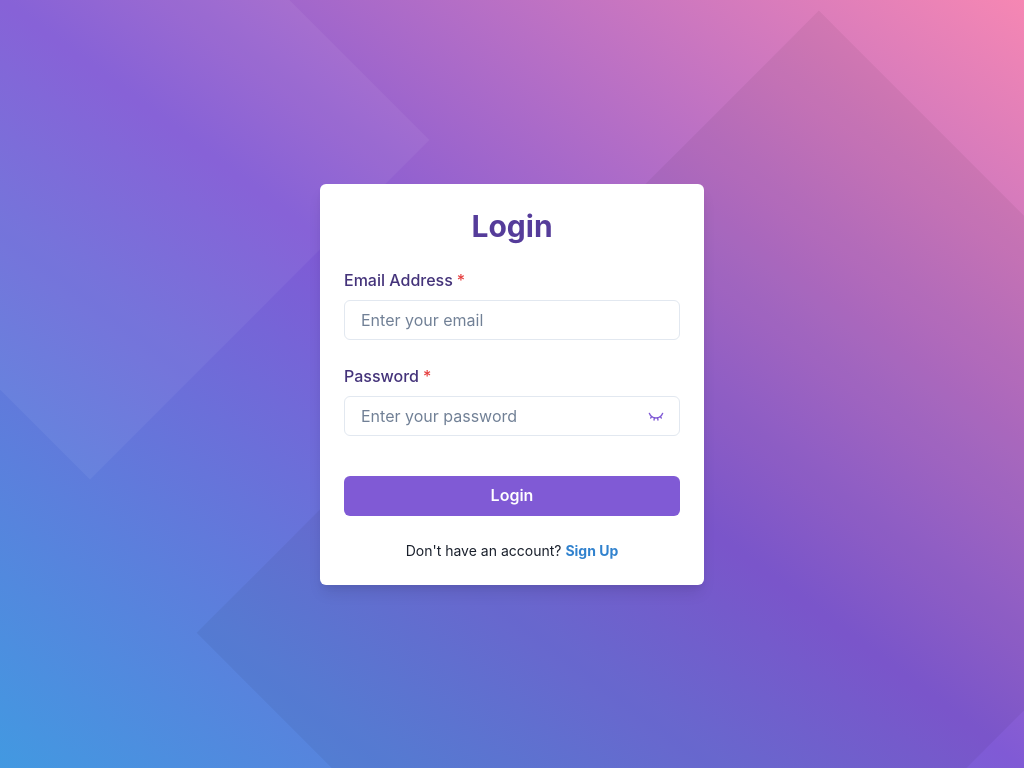
Scenario: SignUpForm Component › switches to SignUp form from Login form
Expected: the button "Login" is shown, x1=344 y1=476 x2=680 y2=516
Click the link "Sign Up" at coordinates (592, 550), box x1=565 y1=542 x2=618 y2=558
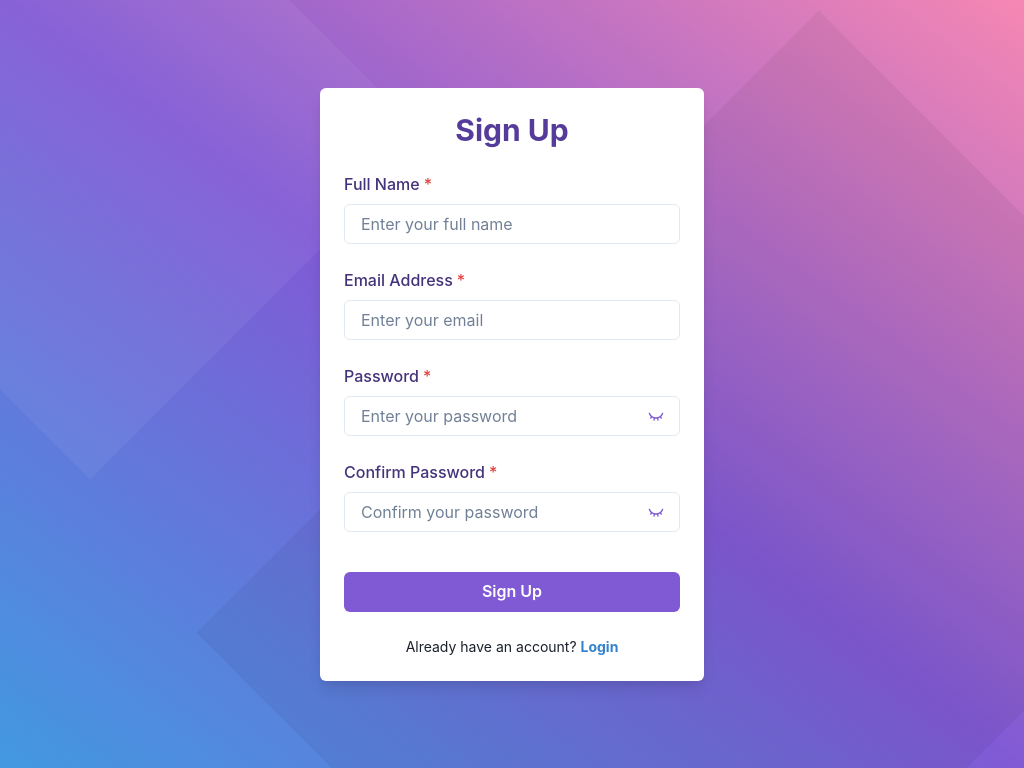
Expected: the field with placeholder "Enter your email" is shown, x1=344 y1=300 x2=680 y2=340
Result: the button "Sign Up" is shown at x1=344 y1=572 x2=680 y2=612
Result: the password field with placeholder "Confirm your password" is shown at x1=344 y1=492 x2=680 y2=532
